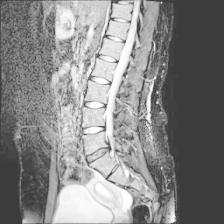disc: (103, 32, 130, 46), (80, 124, 109, 137), (88, 73, 113, 87), (81, 98, 110, 110), (96, 52, 122, 64), (108, 14, 133, 26), (115, 1, 133, 7)
hdisc: (84, 144, 114, 165)
